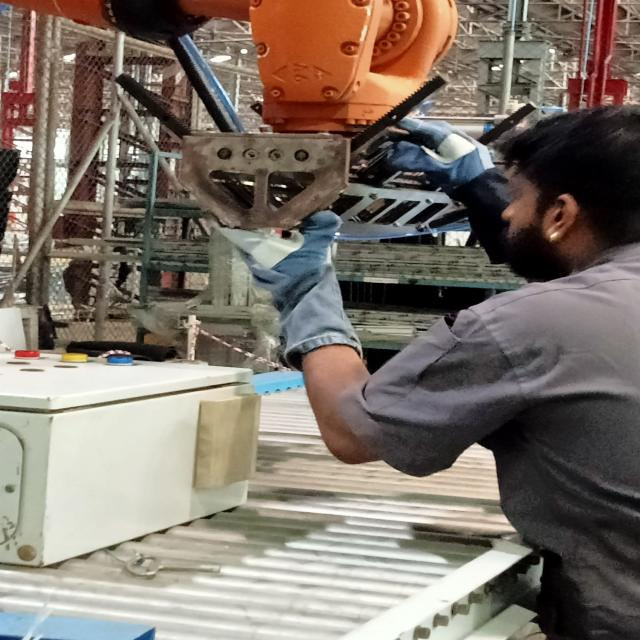Gloves-Detection: (216, 206, 375, 366), (371, 112, 506, 261)
